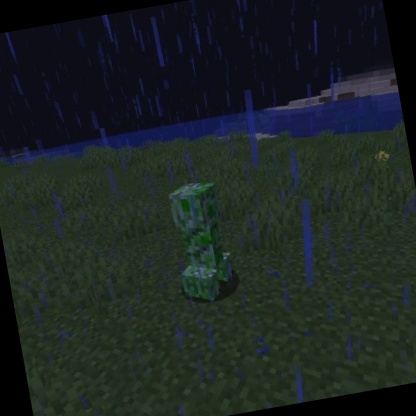creeper: (160, 174, 245, 309)
